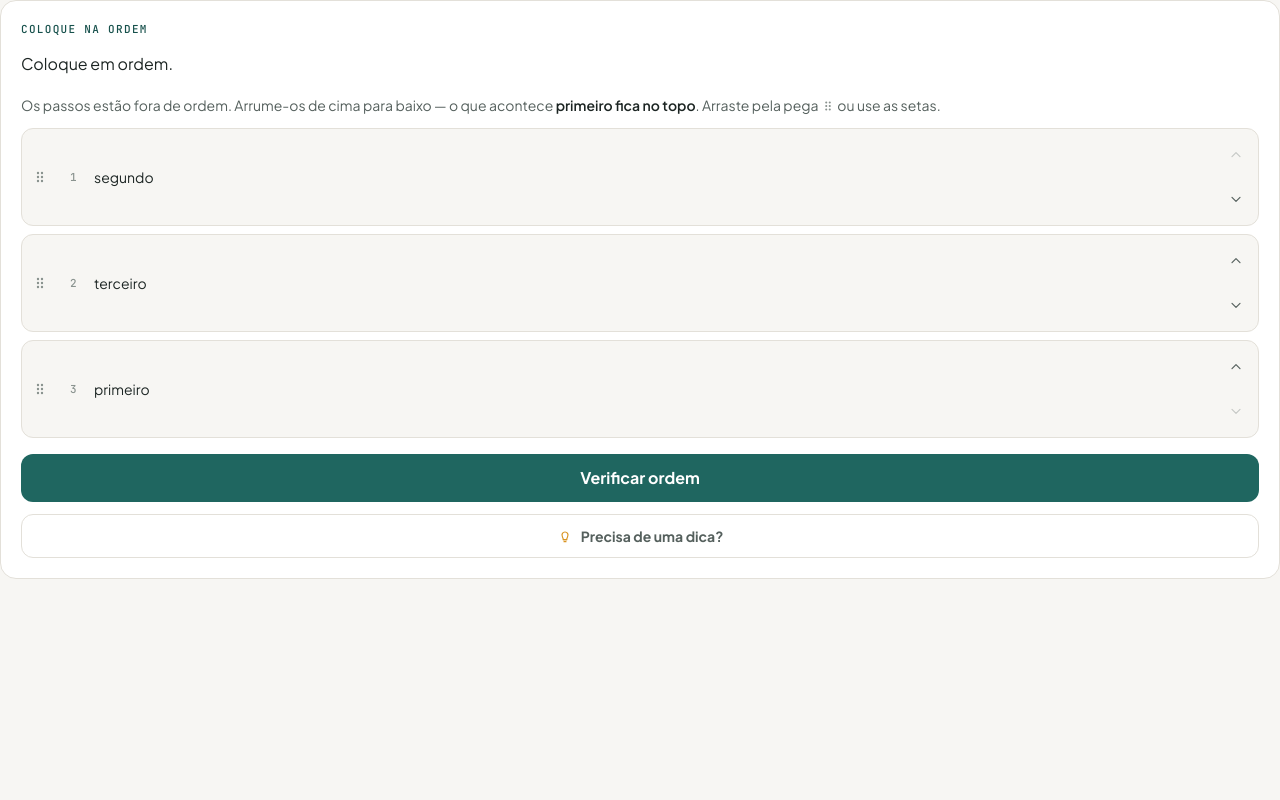
Test: verificação › a ordem certa é aceita
Click the button named "Mover \"primeiro\" para cima": (1236, 367) [1214,345,1258,389]
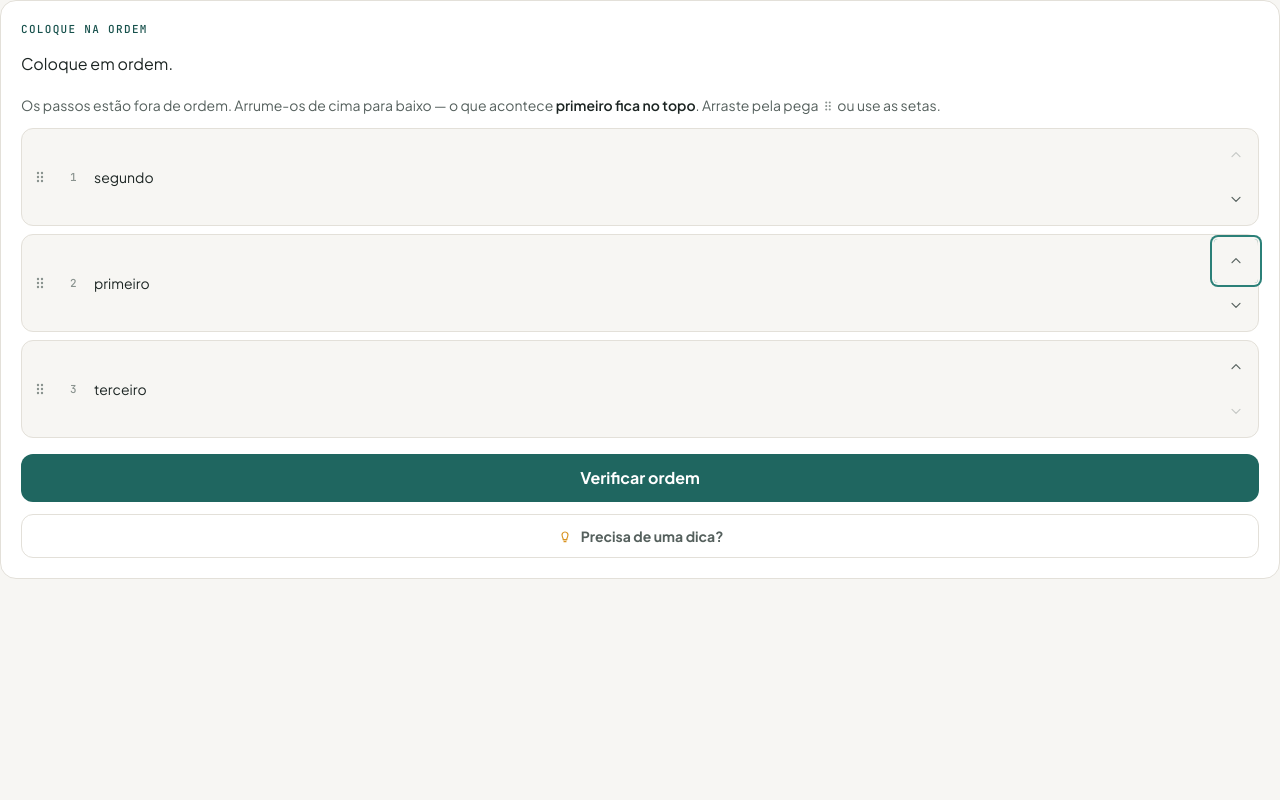
Click the button named "Mover \"primeiro\" para cima": (1236, 261) [1214,239,1258,283]
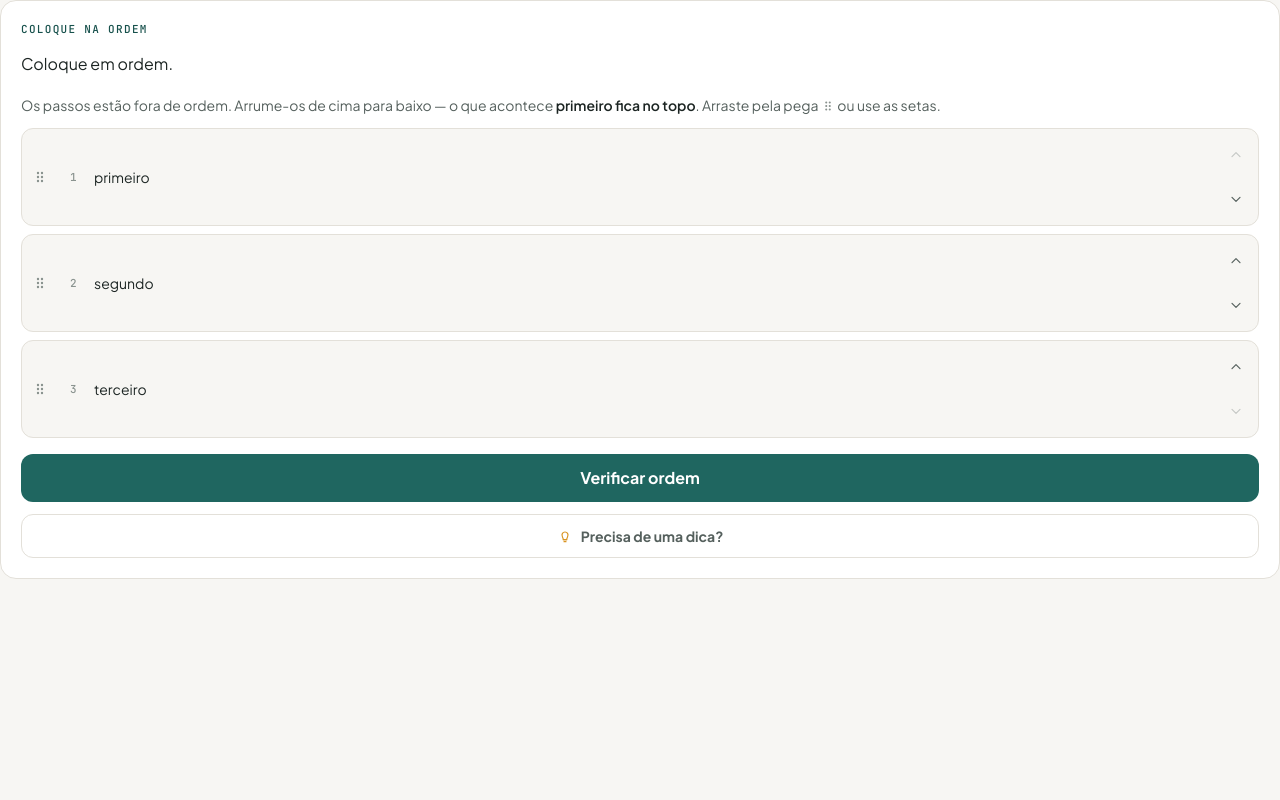
Click the button "Verificar ordem": (640, 478) [21,454,1259,502]
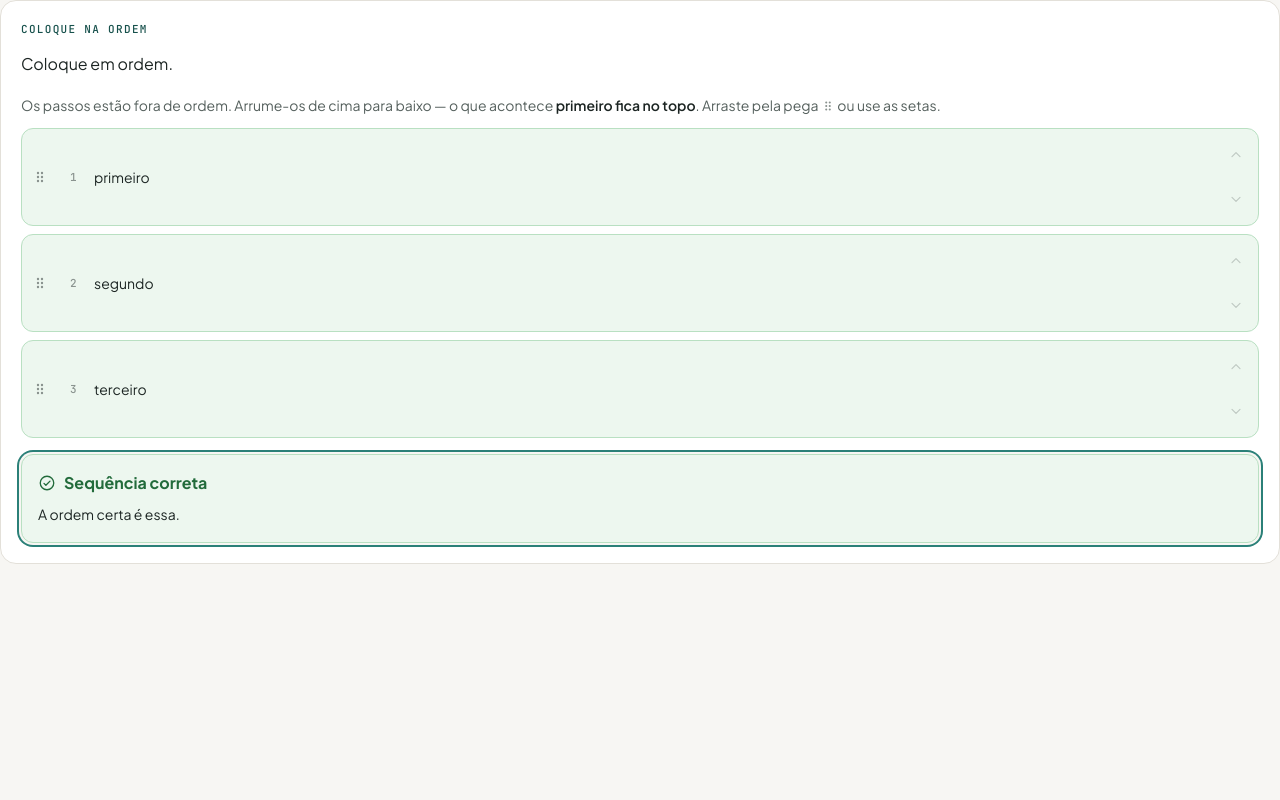
Check: the text "Sequência correta" is shown, box [38,472,207,493]
